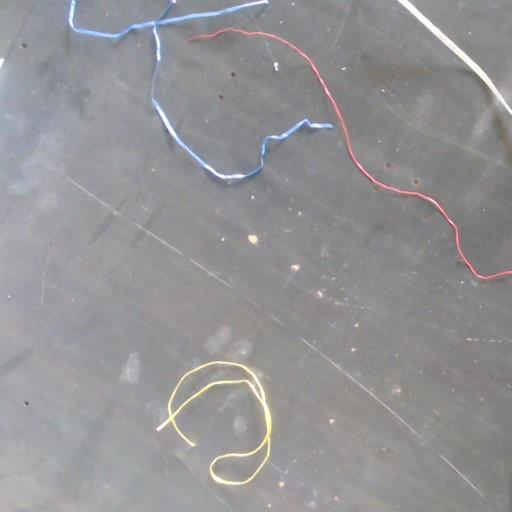conveyor belt: (1, 0, 511, 509)
thread: (190, 27, 511, 280), (68, 0, 333, 180), (157, 361, 271, 484), (397, 0, 511, 115)
